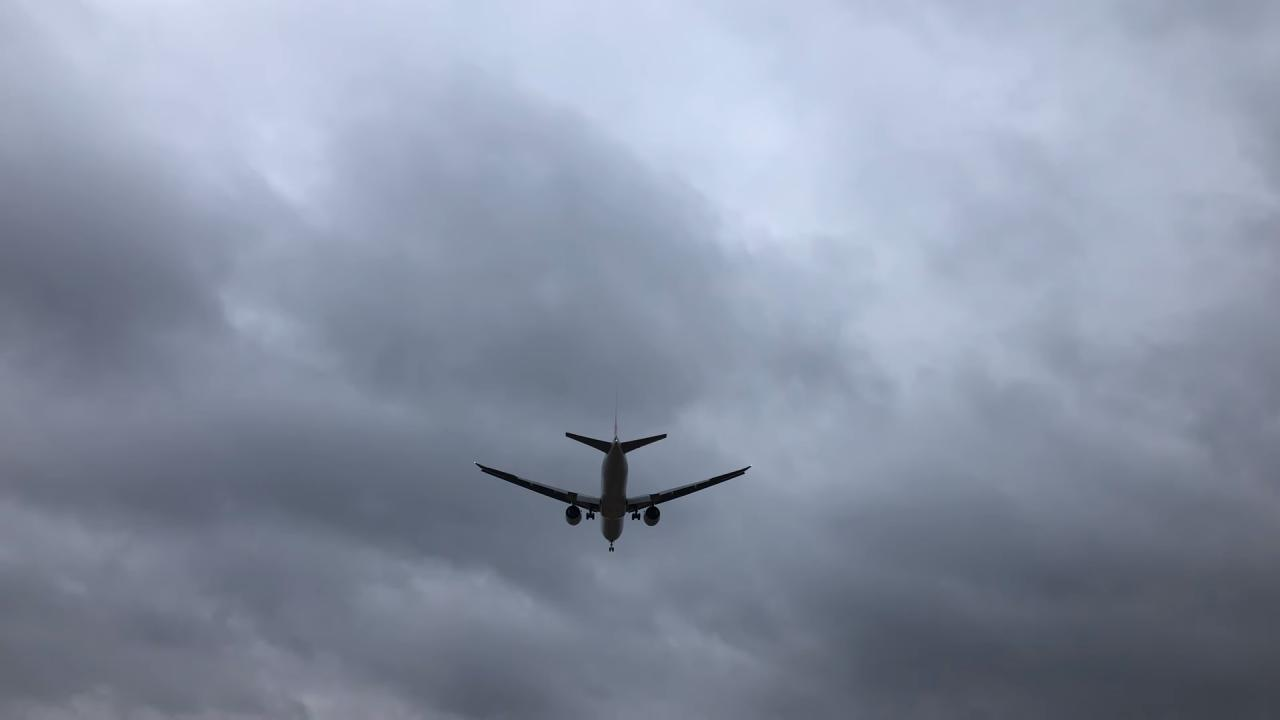Airplane: (463, 392, 757, 562)
